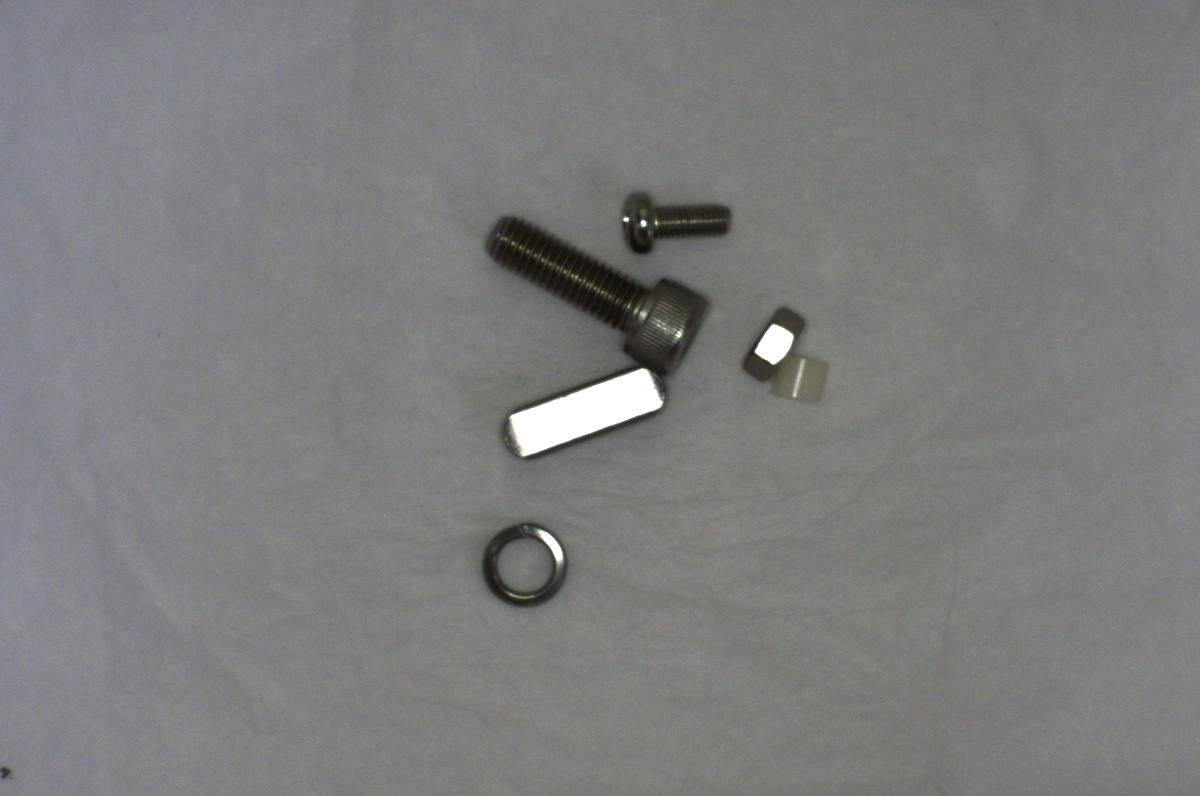Hexagon nut: (742, 292, 803, 383)
Hexagon screw: (475, 210, 711, 373)
Keybar: (492, 363, 675, 469)
Plastic cushion pillar: (773, 349, 832, 408)
Round head screw: (612, 183, 735, 256)
Spring washer: (470, 504, 578, 618)
